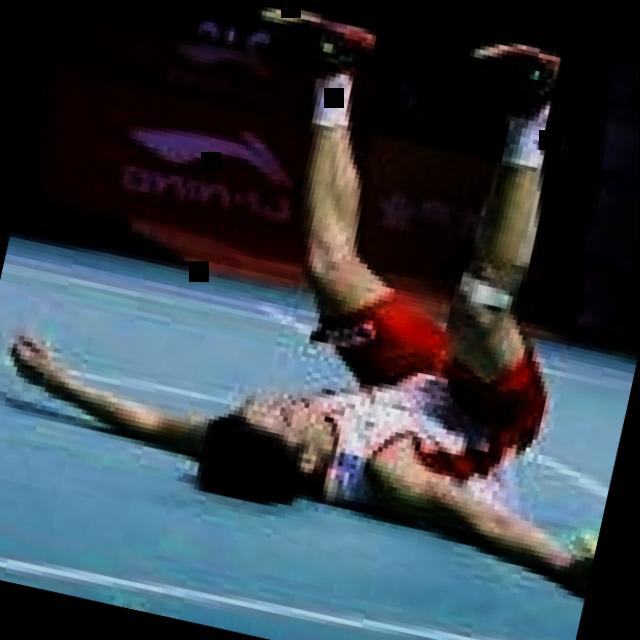Fall-Detected: (0, 0, 640, 573)
